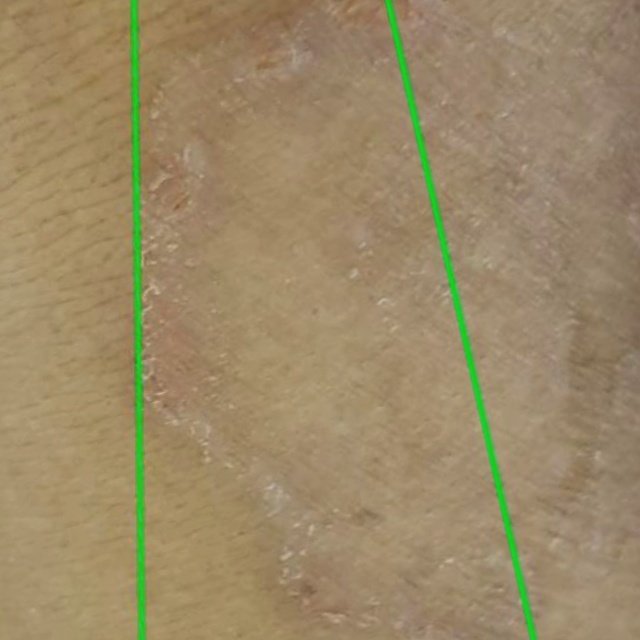Tinea Corporis: (82, 0, 639, 639), (0, 0, 532, 639)
